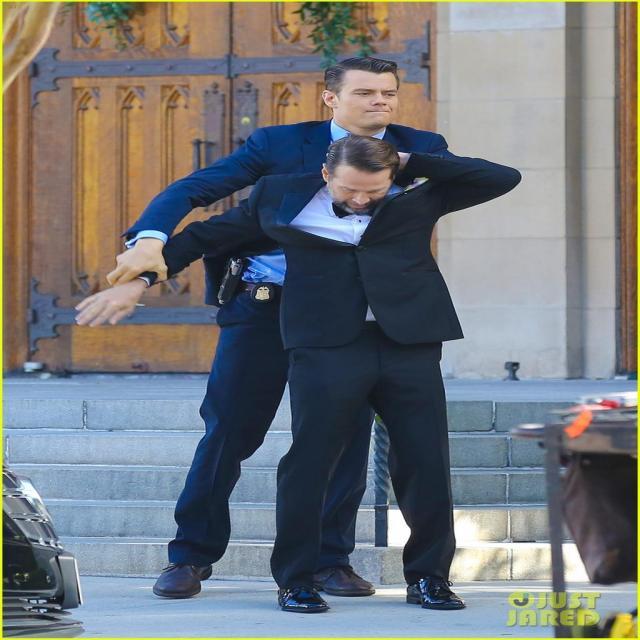Face: (322, 57, 409, 133), (320, 150, 404, 218)
